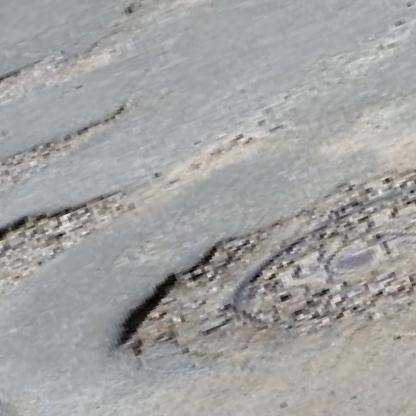pothole: (97, 212, 325, 377), (0, 172, 148, 334), (0, 101, 140, 245), (0, 23, 134, 158), (121, 0, 230, 40)
